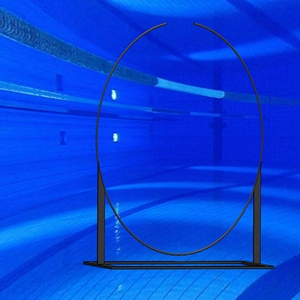circle: (83, 22, 276, 275)
